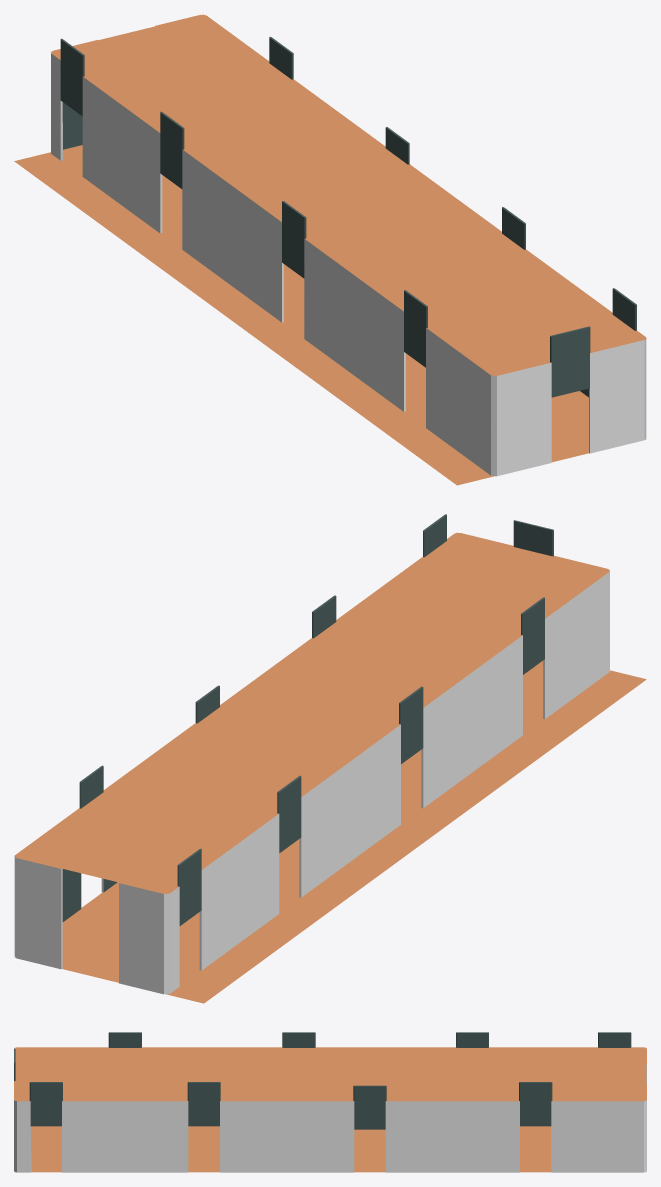
The model's file is camera room mesh.obj.
3 views of the same model, one above another, from view 1: azimuth 30°, elevation 25°; view 2: azimuth 150°, elevation 25°; view 3: azimuth 270°, elevation 25° (orthographic). The views are drawn at different scales.
Visible parts, largest first — view 1: Cube.010_Cube.035, Cube.009_Cube.034, wall.118_wall.002, wall.126_wall.002, wall.127_wall.002, wall.116_wall.002, wall.134_wall.002, wall.135_wall.002, wall.110_wall.015, wall.133_wall.010, wall.111_wall.015, wall.109_wall.015 (+7 smaller); view 2: Cube.010_Cube.035, Cube.009_Cube.034, wall.118_wall.002, wall.126_wall.002, wall.127_wall.002, wall.116_wall.002, wall.109_wall.015, wall.129_wall.002, wall.128_wall.002, wall.108_wall.015, wall.119_wall.010, wall.124_wall.010 (+7 smaller); view 3: Cube.010_Cube.035, wall.113_wall.002, wall.114_wall.002, wall.115_wall.002, Cube.009_Cube.034, wall.112_wall.002, wall.131_wall.010, wall.130_wall.010, wall.132_wall.010, wall.136_wall.010, wall.111_wall.015, wall.108_wall.015 (+4 smaller).
Part boxes in pixels (box(x1,y1,x2,y2)): Cube.010_Cube.035: box(51, 14, 646, 376); Cube.009_Cube.034: box(14, 145, 646, 485); wall.118_wall.002: box(304, 238, 405, 411); wall.126_wall.002: box(182, 149, 283, 322); wall.127_wall.002: box(82, 76, 162, 233); wall.116_wall.002: box(426, 327, 482, 468); wall.134_wall.002: box(589, 343, 628, 453); wall.135_wall.002: box(512, 362, 551, 472); wall.110_wall.015: box(481, 368, 513, 476); wall.133_wall.010: box(550, 326, 590, 397); wall.111_wall.015: box(628, 331, 646, 443); wall.109_wall.015: box(51, 49, 70, 160); Cube.010_Cube.035: box(14, 532, 609, 894); Cube.009_Cube.034: box(14, 661, 646, 1003); wall.118_wall.002: box(421, 635, 522, 808); wall.126_wall.002: box(299, 724, 400, 897); wall.127_wall.002: box(199, 813, 279, 970); wall.116_wall.002: box(543, 578, 600, 719); wall.109_wall.015: box(147, 886, 179, 994); wall.129_wall.002: box(32, 861, 62, 969); wall.128_wall.002: box(119, 882, 147, 990); wall.108_wall.015: box(14, 848, 33, 962); wall.119_wall.010: box(399, 686, 423, 763); wall.124_wall.010: box(277, 775, 301, 853); Cube.010_Cube.035: box(14, 1047, 646, 1100); wall.113_wall.002: box(385, 1100, 519, 1172); wall.114_wall.002: box(220, 1100, 354, 1172); wall.115_wall.002: box(62, 1100, 188, 1172); Cube.009_Cube.034: box(15, 1126, 645, 1172); wall.112_wall.002: box(551, 1100, 630, 1172); wall.131_wall.010: box(187, 1082, 220, 1126); wall.130_wall.010: box(519, 1082, 552, 1126); wall.132_wall.010: box(29, 1082, 62, 1126); wall.136_wall.010: box(353, 1085, 386, 1129); wall.111_wall.015: box(14, 1094, 31, 1172); wall.108_wall.015: box(630, 1094, 646, 1172).
Bounding box in the file's own units: 9.95 × 6.29 × 40.1.
